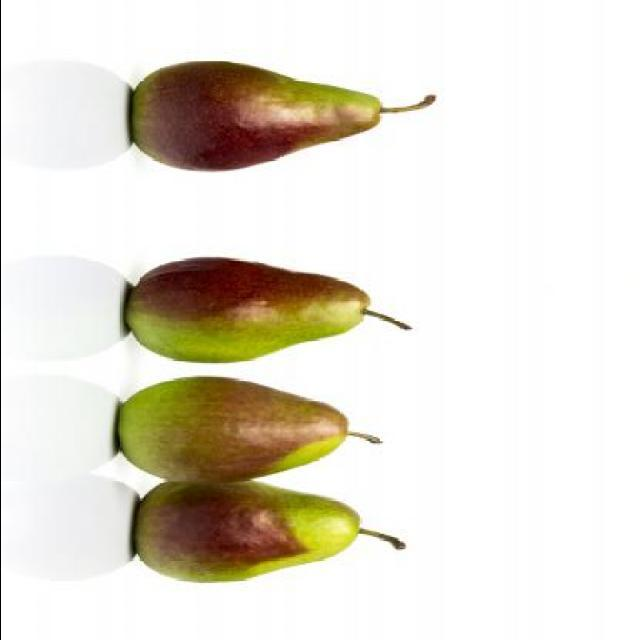Pear: (124, 58, 382, 174), (123, 256, 372, 364), (113, 375, 350, 487), (133, 476, 364, 584)
